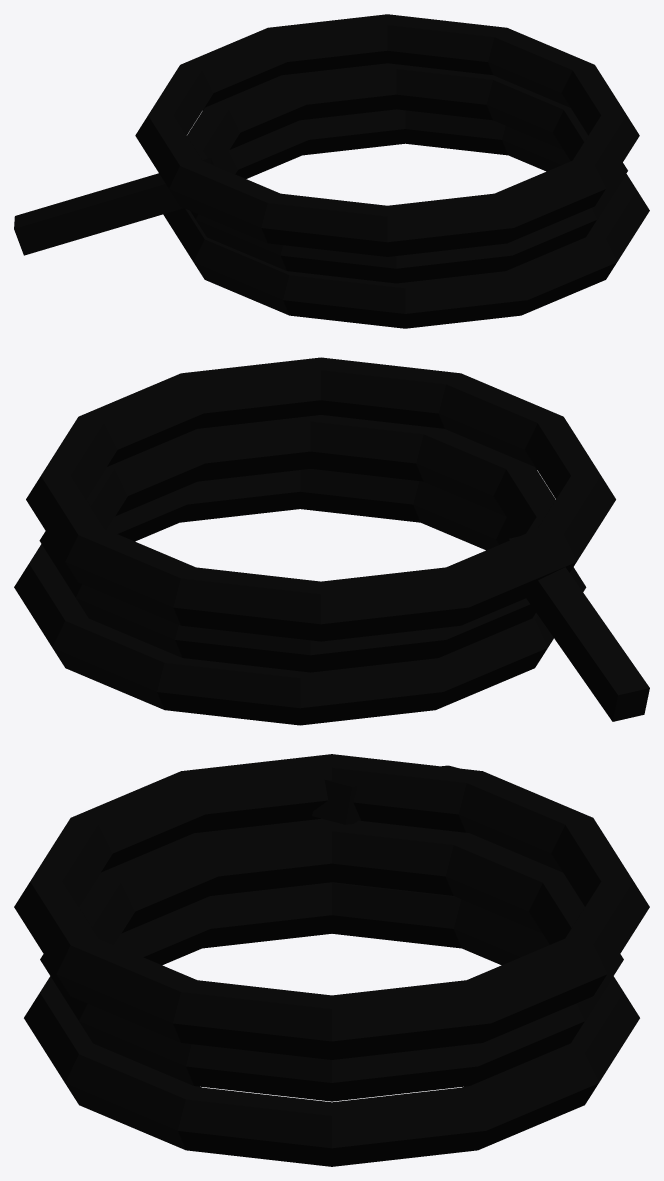
Rendered from Item_copper_wire.fbx.
3 renders of one model, top to bottom at view 1: azimuth 30°, elevation 25°; view 2: azimuth 150°, elevation 25°; view 3: azimuth 270°, elevation 25°, orthographic. The views are drawn at different scales.
Visible parts, largest first — view 1: Coil; view 2: Coil; view 3: Coil.
Boxes of the visible parts, x1=… form: Coil: x1=14, y1=14, x2=649, y2=328; Coil: x1=14, y1=357, x2=649, y2=725; Coil: x1=14, y1=754, x2=649, y2=1166.
Size of the model in its own units: 0.3372 by 0.0693 by 0.2646.
